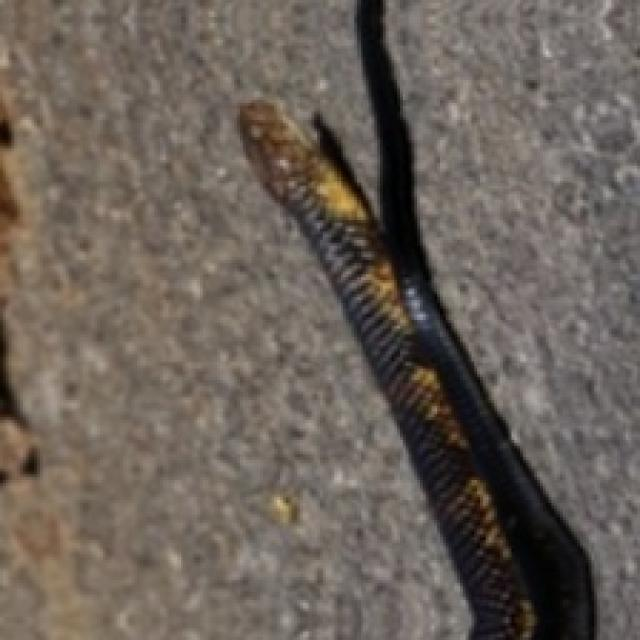king cobra: (237, 0, 591, 637)
